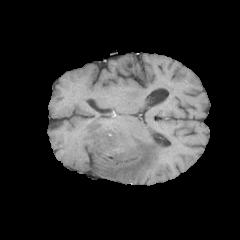glioma: (61, 122, 184, 180)
